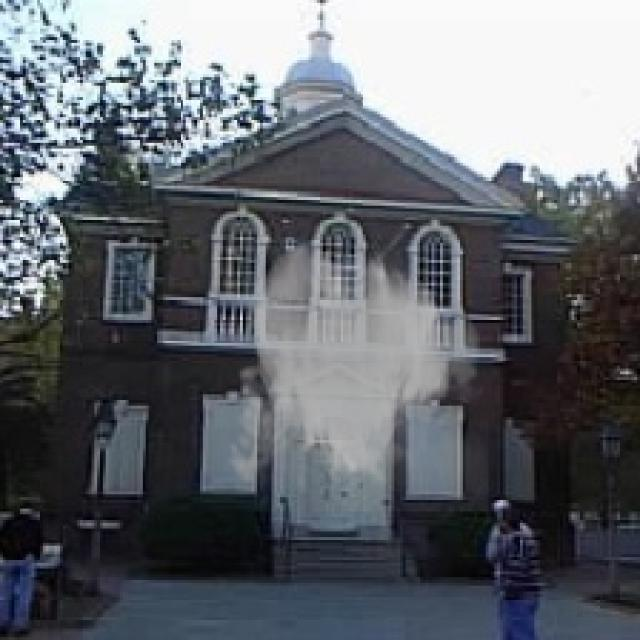Smoke: (220, 237, 489, 512)
